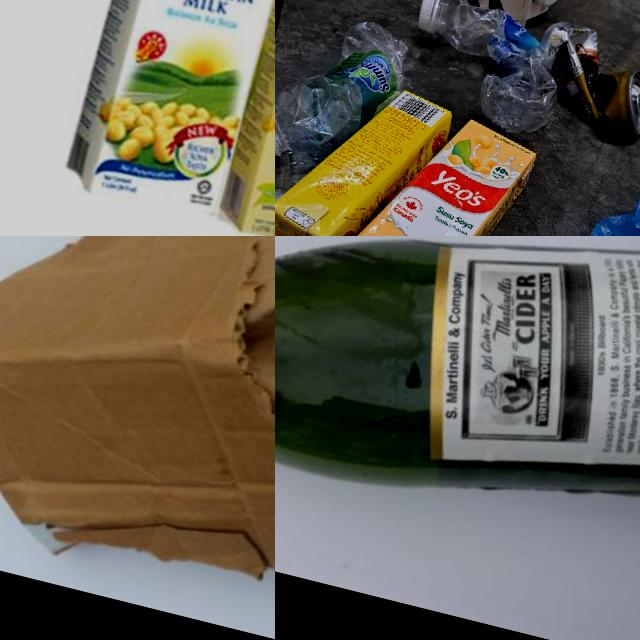aba de lata: (624, 79, 640, 127)
caixinha: (63, 0, 275, 223), (275, 64, 453, 236), (340, 99, 540, 236), (268, 44, 275, 47)
garrafa de vidro: (275, 236, 640, 597)
garrafa plástica: (275, 0, 419, 191), (398, 0, 574, 135)
lata: (524, 15, 640, 144)
papelão: (0, 236, 275, 604)
tampa plástica: (416, 0, 445, 34), (275, 109, 285, 164)
